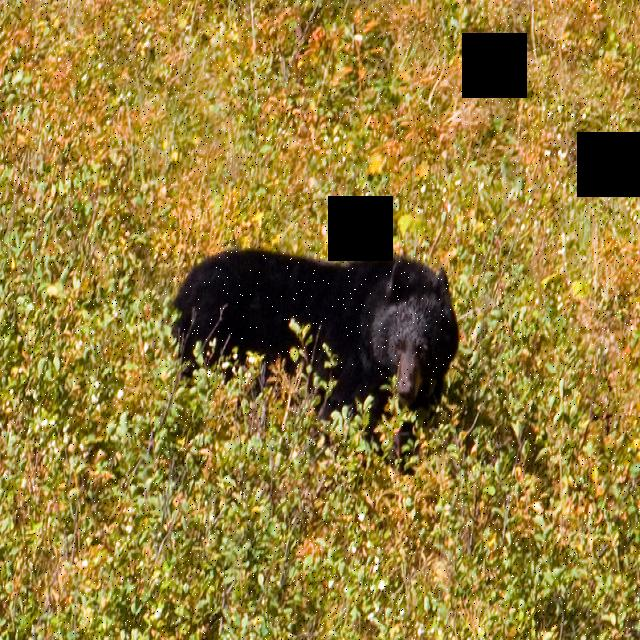Bear: (166, 236, 458, 431)
